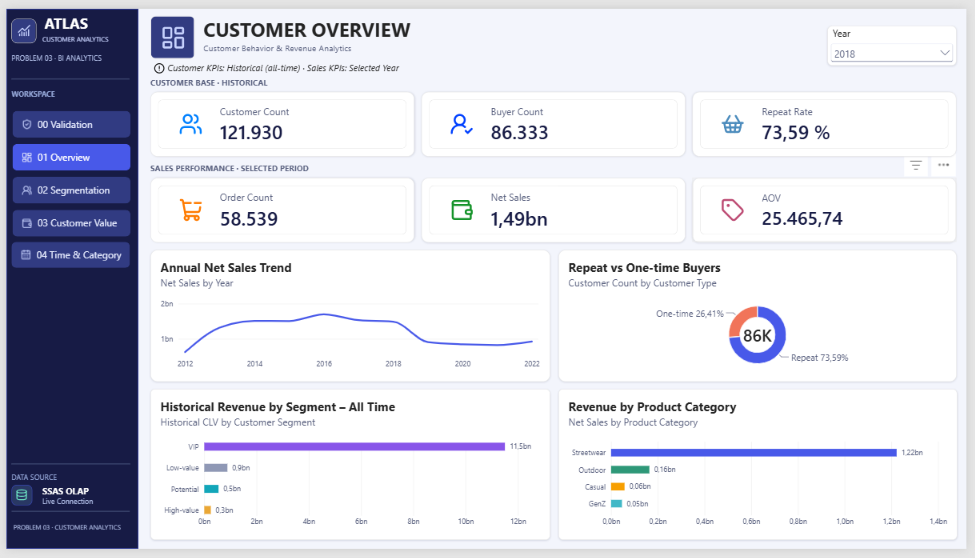

The dashboard page shown, as its layout file describes it:
{"tool":"powerbi","page":{"name":"01_Customer_Overview","canvas":[1600,900],"ordinal":1},"visuals":[{"type":"shape","box":[0,0,220,900],"z":0,"group":"g2"},{"type":"shape","box":[240,12.2,74,72],"z":0,"group":"g1"},{"type":"textbox","box":[328,12.2,382,52],"z":0,"group":"g3"},{"type":"image","box":[241.7,90,26.7,18.3],"z":0,"group":"g4"},{"type":"textbox","box":[62.7,9.2,144.4,34.4],"z":1000,"group":"g2"},{"type":"image","box":[254.8,26.6,46.9,43.2],"z":1000,"group":"g1"},{"type":"textbox","box":[328,55.2,736,22],"z":1000,"group":"g3"},{"type":"textbox","box":[268.4,88.3,500,25],"z":1000,"group":"g4"},{"type":"cardVisual","fields":{"Data":["V FACT ORDER OFFICIAL.Order Count"]},"box":[240,281.1,440,108],"z":1000},{"type":"group","id":"g1","title":"Group 2","box":[240,12.2,74,72],"z":2000,"group":"g3"},{"type":"cardVisual","fields":{"Data":["V FACT CUSTOMER ANALYTICS.Buyer Count"]},"box":[692,139.1,440,108],"z":2000},{"type":"actionButton","box":[9.3,170.4,196.9,44.7],"z":2000,"group":"g2"},{"type":"cardVisual","fields":{"Data":["V FACT CUSTOMER ANALYTICS.Customer Count"]},"box":[240,139.1,440,108],"z":3000},{"type":"actionButton","box":[8.9,389,197.7,43.5],"z":3000,"group":"g2"},{"type":"actionButton","box":[9.3,280.2,196.9,44.7],"z":4000,"group":"g2"},{"type":"cardVisual","fields":{"Data":["V FACT SALES LINE OFFICIAL.Net Sales"]},"box":[692,281.1,440,108],"z":4000},{"type":"cardVisual","fields":{"Data":["V FACT CUSTOMER MONTHLY OFFICIAL.AOV"]},"box":[1144,281.1,440,108],"z":5000},{"type":"actionButton","box":[9.3,335.1,196.9,44.7],"z":5000,"group":"g2"},{"type":"cardVisual","fields":{"Data":["Measures.Repeat Rate"]},"box":[1144,139.1,440,108],"z":6000},{"type":"actionButton","box":[9.3,225.3,196.9,44.7],"z":6000,"group":"g2"},{"type":"shape","box":[8.5,16.4,41.2,40.5],"z":7000,"group":"g2"},{"type":"lineChart","title":"Annual Net Sales Trend","fields":{"Category":["Date.Year"],"Y":["V FACT SALES LINE OFFICIAL.Net Sales"]},"box":[240,402,666,220],"z":7000},{"type":"image","box":[17.8,25.5,22.7,22.3],"z":8000,"group":"g2"},{"type":"donutChart","title":"Repeat vs One-time Buyers","fields":{"Category":["Customer.Customer Type"],"Y":["V FACT CUSTOMER ANALYTICS.Customer Count"]},"box":[920,402,664,220],"z":8000},{"type":"textbox","box":[60.3,40.1,139.2,21.7],"z":9000,"group":"g2"},{"type":"clusteredBarChart","title":"Historical Revenue by Segment – All Time","fields":{"Category":["Customer.Customer Segment"],"Y":["V FACT CUSTOMER ANALYTICS.Historical CLV"]},"box":[240,634,666,252],"z":9000},{"type":"textbox","box":[8.9,71.8,197.8,23],"z":10000,"group":"g2"},{"type":"clusteredBarChart","title":"Revenue by Product Category","fields":{"Category":["Product.Category"],"Y":["V FACT SALES LINE OFFICIAL.Net Sales"]},"box":[920,634,665,251.7],"z":10000},{"type":"slicer","fields":{"Values":["Date.Year"]},"box":[1368.3,28.3,215.6,66.7],"z":11000},{"type":"shape","box":[8.5,109.6,196.9,13.8],"z":11000,"group":"g2"},{"type":"group","id":"g2","title":"Group 1","box":[0,0,220,900],"z":12000},{"type":"textbox","box":[8.5,131.9,191.8,20.3],"z":12000,"group":"g2"},{"type":"textbox","box":[240,114.1,700,20],"z":13000},{"type":"shape","box":[8.5,748,198,20.3],"z":13000,"group":"g2"},{"type":"textbox","box":[240,255.8,700,20],"z":14000},{"type":"textbox","box":[8.5,770.3,175.3,20.3],"z":14000,"group":"g2"},{"type":"group","id":"g3","title":"Group 3","box":[240,12.2,823.3,71.7],"z":15000},{"type":"shape","box":[8.5,793.6,35.1,34.5],"z":15000,"group":"g2"},{"type":"group","id":"g4","title":"Group 4","box":[241.7,88.3,526.7,25],"z":16000},{"type":"image","box":[15.7,800.7,20.6,20.3],"z":16000,"group":"g2"},{"type":"textbox","box":[59.6,793.6,123.7,27],"z":17000,"group":"g2"},{"type":"textbox","box":[59.6,810.5,122,18.6],"z":18000,"group":"g2"},{"type":"shape","box":[9.2,832.4,197.7,11.8],"z":19000,"group":"g2"},{"type":"textbox","box":[10.9,852.7,195.9,20.3],"z":20000,"group":"g2"}]}

Visuals, with their boxes on the page's 1600x900 design canvas (x1, y1, x2, y2). These are canvas units, not pixel positions in the 975x558 screenshot, which may show the page scaled, cropped or inside an application window:
shape: [left=0, top=0, right=220, bottom=900]
shape: [left=240, top=12, right=314, bottom=84]
textbox: [left=328, top=12, right=710, bottom=64]
image: [left=242, top=90, right=268, bottom=108]
textbox: [left=63, top=9, right=207, bottom=44]
image: [left=255, top=27, right=302, bottom=70]
textbox: [left=328, top=55, right=1064, bottom=77]
textbox: [left=268, top=88, right=768, bottom=113]
cardVisual - V FACT ORDER OFFICIAL.Order Count: [left=240, top=281, right=680, bottom=389]
"Group 2" group: [left=240, top=12, right=314, bottom=84]
cardVisual - V FACT CUSTOMER ANALYTICS.Buyer Count: [left=692, top=139, right=1132, bottom=247]
actionButton: [left=9, top=170, right=206, bottom=215]
cardVisual - V FACT CUSTOMER ANALYTICS.Customer Count: [left=240, top=139, right=680, bottom=247]
actionButton: [left=9, top=389, right=207, bottom=432]
actionButton: [left=9, top=280, right=206, bottom=325]
cardVisual - V FACT SALES LINE OFFICIAL.Net Sales: [left=692, top=281, right=1132, bottom=389]
cardVisual - V FACT CUSTOMER MONTHLY OFFICIAL.AOV: [left=1144, top=281, right=1584, bottom=389]
actionButton: [left=9, top=335, right=206, bottom=380]
cardVisual - Measures.Repeat Rate: [left=1144, top=139, right=1584, bottom=247]
actionButton: [left=9, top=225, right=206, bottom=270]
shape: [left=8, top=16, right=50, bottom=57]
"Annual Net Sales Trend" lineChart: [left=240, top=402, right=906, bottom=622]
image: [left=18, top=26, right=40, bottom=48]
"Repeat vs One-time Buyers" donutChart: [left=920, top=402, right=1584, bottom=622]
textbox: [left=60, top=40, right=200, bottom=62]
"Historical Revenue by Segment – All Time" clusteredBarChart: [left=240, top=634, right=906, bottom=886]
textbox: [left=9, top=72, right=207, bottom=95]
"Revenue by Product Category" clusteredBarChart: [left=920, top=634, right=1585, bottom=886]
slicer - Date.Year: [left=1368, top=28, right=1584, bottom=95]
shape: [left=8, top=110, right=205, bottom=123]
"Group 1" group: [left=0, top=0, right=220, bottom=900]
textbox: [left=8, top=132, right=200, bottom=152]
textbox: [left=240, top=114, right=940, bottom=134]
shape: [left=8, top=748, right=206, bottom=768]
textbox: [left=240, top=256, right=940, bottom=276]
textbox: [left=8, top=770, right=184, bottom=791]
"Group 3" group: [left=240, top=12, right=1063, bottom=84]
shape: [left=8, top=794, right=44, bottom=828]
"Group 4" group: [left=242, top=88, right=768, bottom=113]
image: [left=16, top=801, right=36, bottom=821]
textbox: [left=60, top=794, right=183, bottom=821]
textbox: [left=60, top=810, right=182, bottom=829]
shape: [left=9, top=832, right=207, bottom=844]
textbox: [left=11, top=853, right=207, bottom=873]
